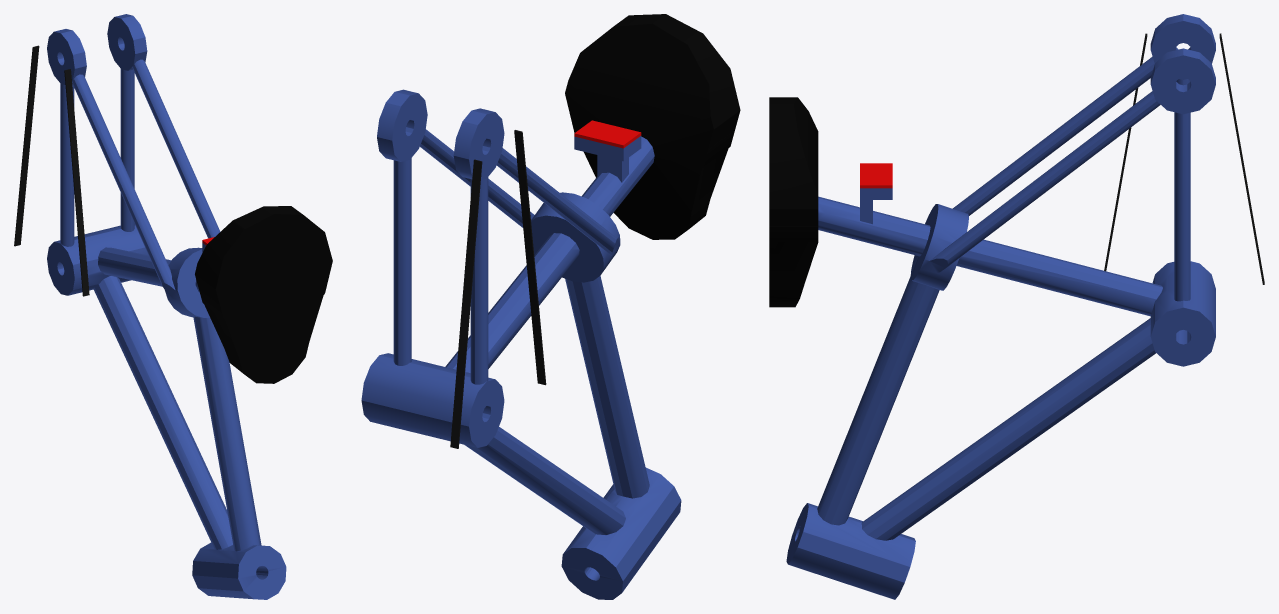
File: frame.obj
3 renders of one model, left to right at view 1: azimuth 30°, elevation 25°; view 2: azimuth 150°, elevation 25°; view 3: azimuth 270°, elevation 25°, orthographic. The views are drawn at different scales.
Visible parts, largest first — view 1: obj_0.016; view 2: obj_0.016; view 3: obj_0.016.
Part boxes in pixels (box(x1,y1,x2,y2)): obj_0.016: box(14, 14, 332, 599); obj_0.016: box(361, 14, 740, 599); obj_0.016: box(769, 14, 1264, 599).
Bounding box in the file's own units: 48.5 × 190 × 152.
